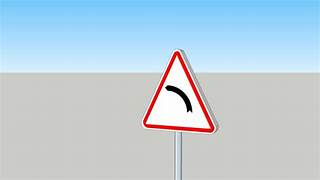left: (141, 48, 218, 133)
